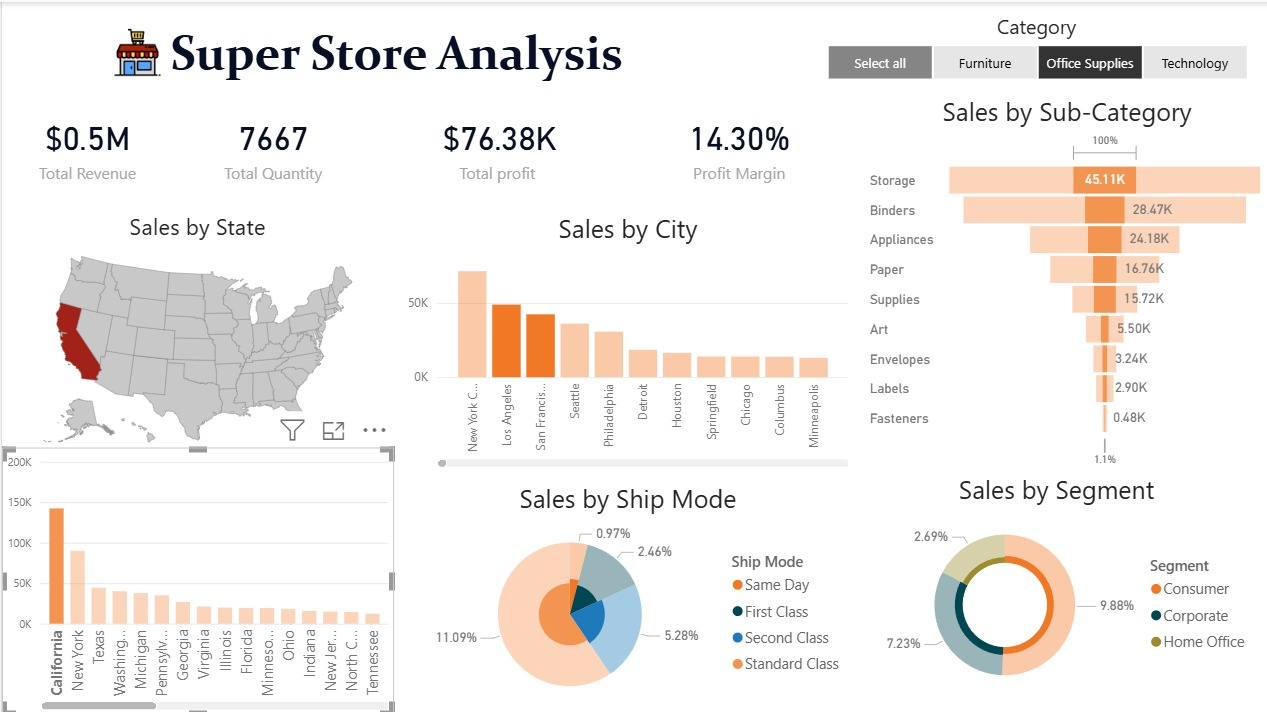

The dashboard page shown, as its layout file describes it:
{"tool":"powerbi","page":{"name":"Sales","canvas":[1280,720],"ordinal":0},"visuals":[{"type":"textbox","box":[165.7,16.4,479.3,72.1],"z":0,"group":"g1"},{"type":"card","fields":{"Values":["SampleSuperstore.Profit plus Sales"]},"box":[0,93,171.8,106.3],"z":0},{"type":"image","box":[107.7,20.4,58.2,59.3],"z":1000,"group":"g1"},{"type":"card","fields":{"Values":["Sum(SampleSuperstore.Quantity)"]},"box":[171.8,93,204.6,106.3],"z":1000},{"type":"card","fields":{"Values":["Sum(SampleSuperstore.Profit)"]},"box":[376.4,93,249.7,106.3],"z":2000},{"type":"card","fields":{"Values":["SampleSuperstore.Profit divided by Total Revenue"]},"box":[626.1,93,233.8,106.3],"z":3000},{"type":"shapeMap","title":"Sales by State","fields":{"Category":["SampleSuperstore.State"],"Value":["Sum(SampleSuperstore.Sales)"]},"box":[0,209.9,395,248.9],"z":4000},{"type":"clusteredColumnChart","fields":{"Y":["Sum(SampleSuperstore.Sales)"],"Category":["SampleSuperstore.State"]},"box":[0,449.7,395.2,269.5],"z":5000},{"type":"clusteredColumnChart","title":"Sales by City","fields":{"Y":["Sum(SampleSuperstore.Sales)"],"Category":["SampleSuperstore.City"]},"box":[404.7,209.9,455.2,263.9],"z":6000},{"type":"pieChart","title":"Sales by Ship Mode","fields":{"Category":["SampleSuperstore.Ship Mode"],"Y":["Sum(SampleSuperstore.Sales)"]},"box":[404.7,483.5,455.2,235.6],"z":7000},{"type":"funnel","title":"Sales by Sub-Category","fields":{"Category":["SampleSuperstore.Sub-Category"],"Y":["Sum(SampleSuperstore.Sales)"]},"box":[870.6,93,409.2,380.8],"z":8000},{"type":"donutChart","title":"Sales by Segment","fields":{"Category":["SampleSuperstore.Segment"],"Y":["Sum(SampleSuperstore.Sales)"]},"box":[860.1,473.9,408.8,234.7],"z":9000},{"type":"slicer","title":"Category","fields":{"Values":["SampleSuperstore.Category"]},"box":[808.3,10,471.7,73.9],"z":10000},{"type":"group","id":"g1","title":"Group 1","box":[107.7,16.4,537.4,72.1],"z":11000}]}

Visuals, with their boxes in screenshot pixels (x1, y1, x2, y2), scaled from the page's 1280x720 canvas onto the 1267x712 screenshot:
textbox: <bbox>164, 16, 638, 88</bbox>
card - SampleSuperstore.Profit plus Sales: <bbox>0, 92, 170, 197</bbox>
image: <bbox>107, 20, 164, 79</bbox>
card - Sum(SampleSuperstore.Quantity): <bbox>170, 92, 373, 197</bbox>
card - Sum(SampleSuperstore.Profit): <bbox>373, 92, 620, 197</bbox>
card - SampleSuperstore.Profit divided by Total Revenue: <bbox>620, 92, 851, 197</bbox>
"Sales by State" shapeMap: <bbox>0, 208, 391, 454</bbox>
clusteredColumnChart - Sum(SampleSuperstore.Sales) x SampleSuperstore.State: <bbox>0, 445, 391, 711</bbox>
"Sales by City" clusteredColumnChart: <bbox>401, 208, 851, 469</bbox>
"Sales by Ship Mode" pieChart: <bbox>401, 478, 851, 711</bbox>
"Sales by Sub-Category" funnel: <bbox>862, 92, 1266, 469</bbox>
"Sales by Segment" donutChart: <bbox>851, 469, 1256, 701</bbox>
"Category" slicer: <bbox>800, 10, 1266, 83</bbox>
"Group 1" group: <bbox>107, 16, 639, 88</bbox>
